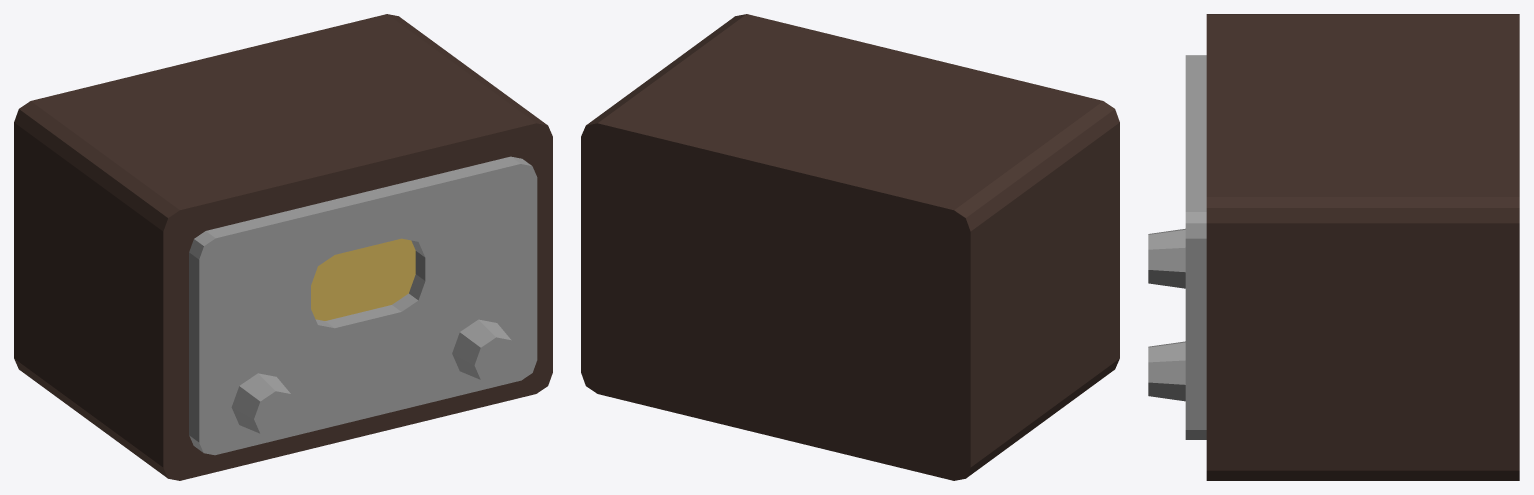
The model's file is Radio.fbx.
3 views of the same model, side by side, from view 1: azimuth 30°, elevation 25°; view 2: azimuth 150°, elevation 25°; view 3: azimuth 270°, elevation 25° (orthographic). The views are drawn at different scales.
Parts seen in each view (by area): view 1: Cube; view 2: Cube; view 3: Cube.
Part boxes in pixels (bbox=[...]): Cube: bbox=[14, 14, 552, 480]; Cube: bbox=[581, 14, 1119, 480]; Cube: bbox=[1148, 14, 1519, 480].
Size of the model in its own units: 301 by 200 by 237.
